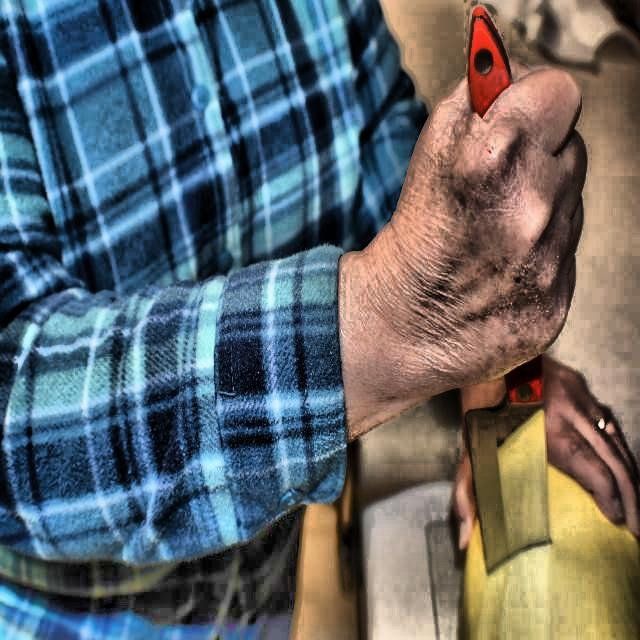knife: (454, 1, 557, 584)
